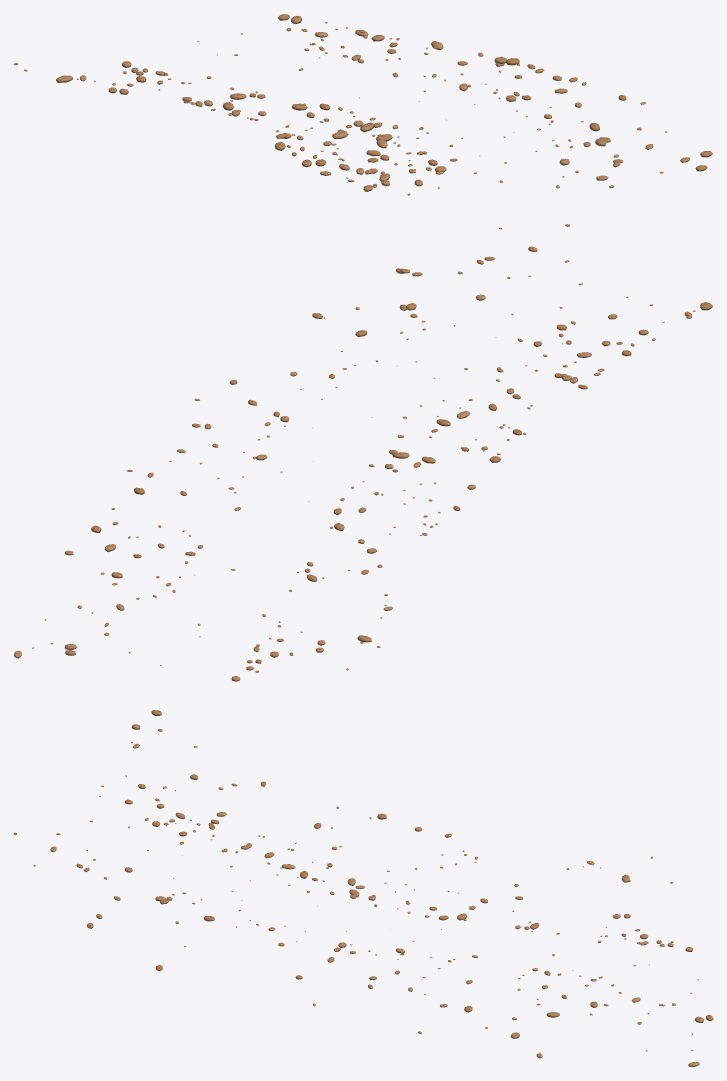
Rendered from terrain-116.glb.
3 renders of one model, top to bottom at view 1: azimuth 30°, elevation 25°; view 2: azimuth 150°, elevation 25°; view 3: azimuth 270°, elevation 25°, orthographic. The views are drawn at different scales.
Parts seen in each view (by area): view 1: terrain-116; view 2: terrain-116; view 3: terrain-116.
Part boxes in pixels (x1=…): terrain-116: x1=14, y1=14, x2=712, y2=195; terrain-116: x1=14, y1=224, x2=712, y2=681; terrain-116: x1=14, y1=710, x2=712, y2=1066.
Size of the model in its own units: 53.73 by 26.01 by 85.9.
